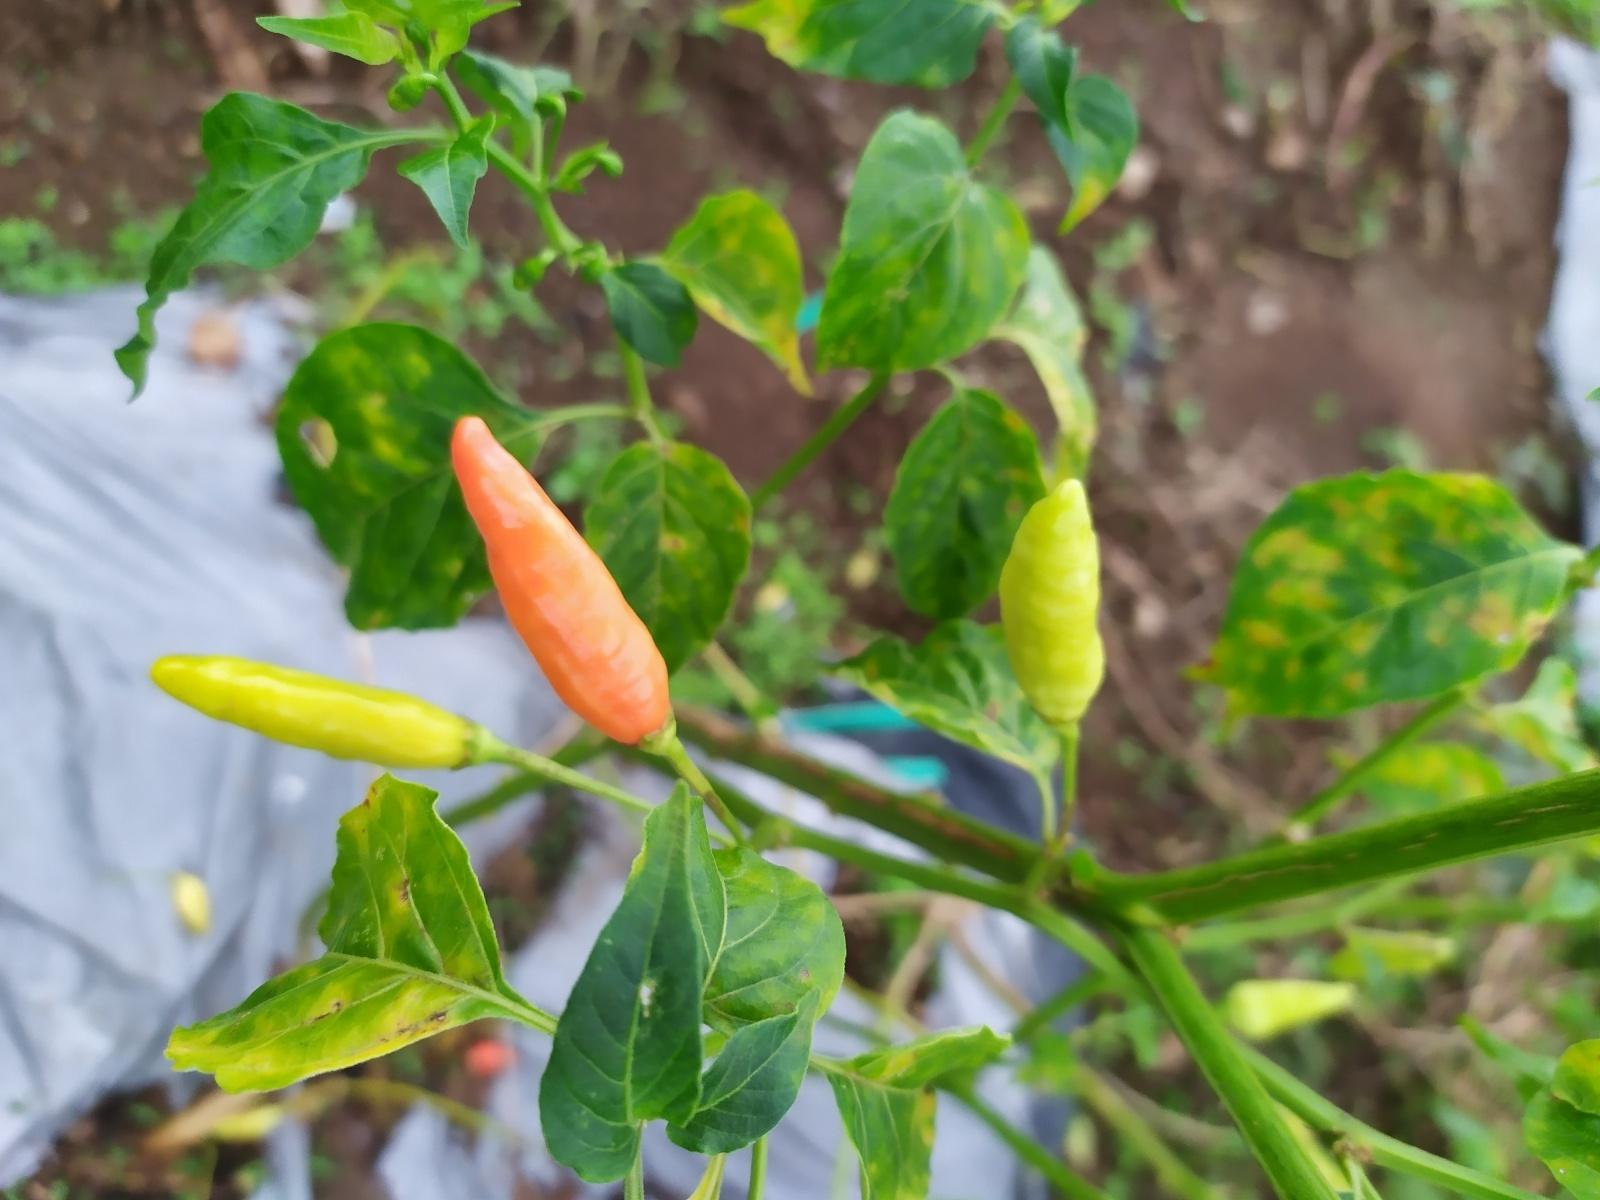cabai_normal: (450, 415, 674, 755), (149, 653, 472, 771), (999, 476, 1107, 729)
